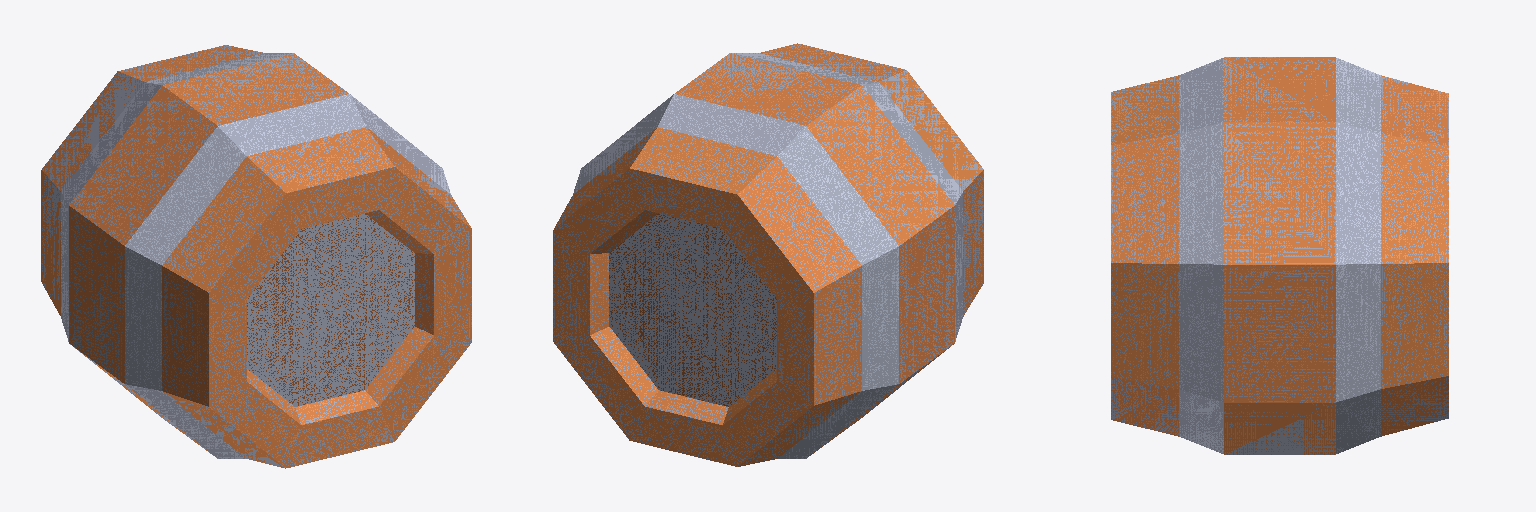
The model's file is barrel.obj.
3 renders of one model, left to right at view 1: azimuth 30°, elevation 25°; view 2: azimuth 150°, elevation 25°; view 3: azimuth 270°, elevation 25°, orthographic.
Visible parts, largest first — view 1: barrel; view 2: barrel; view 3: barrel.
Part boxes in pixels (x1,y1,x2,y2): barrel: (41, 45, 471, 468); barrel: (553, 43, 983, 466); barrel: (1111, 57, 1448, 454).
Size of the model in its own units: 0.4358 by 0.4358 by 0.4002.